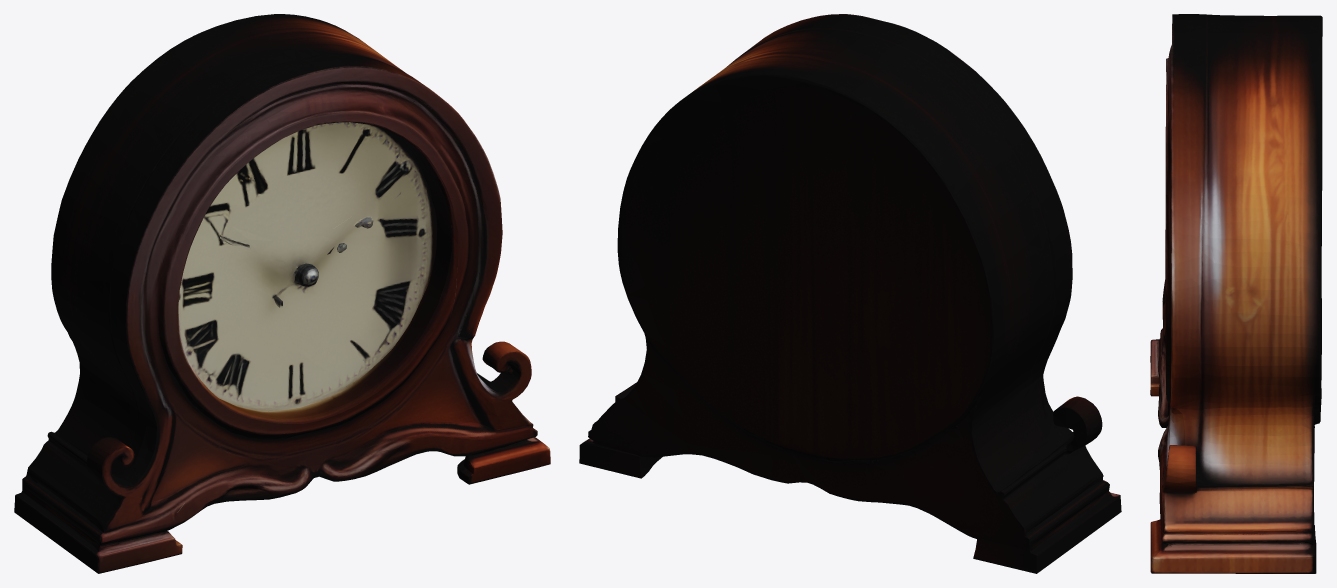
Rendered from wooden-desk-clock-3d.jpeg.glb.
The picture shows the model from 3 angles, left to right: view 1: azimuth 30°, elevation 25°; view 2: azimuth 150°, elevation 25°; view 3: azimuth 270°, elevation 25°; orthographic projection. The views are drawn at different scales.
Parts seen in each view (by area): view 1: world; view 2: world; view 3: world.
Part boxes in pixels (box(x1,y1,x2,y2)): world: box(14, 14, 550, 573); world: box(579, 14, 1121, 573); world: box(1150, 14, 1322, 573).
Bounding box in the file's own units: 1 × 0.9278 × 0.3347.
1 material, 1 textured.
